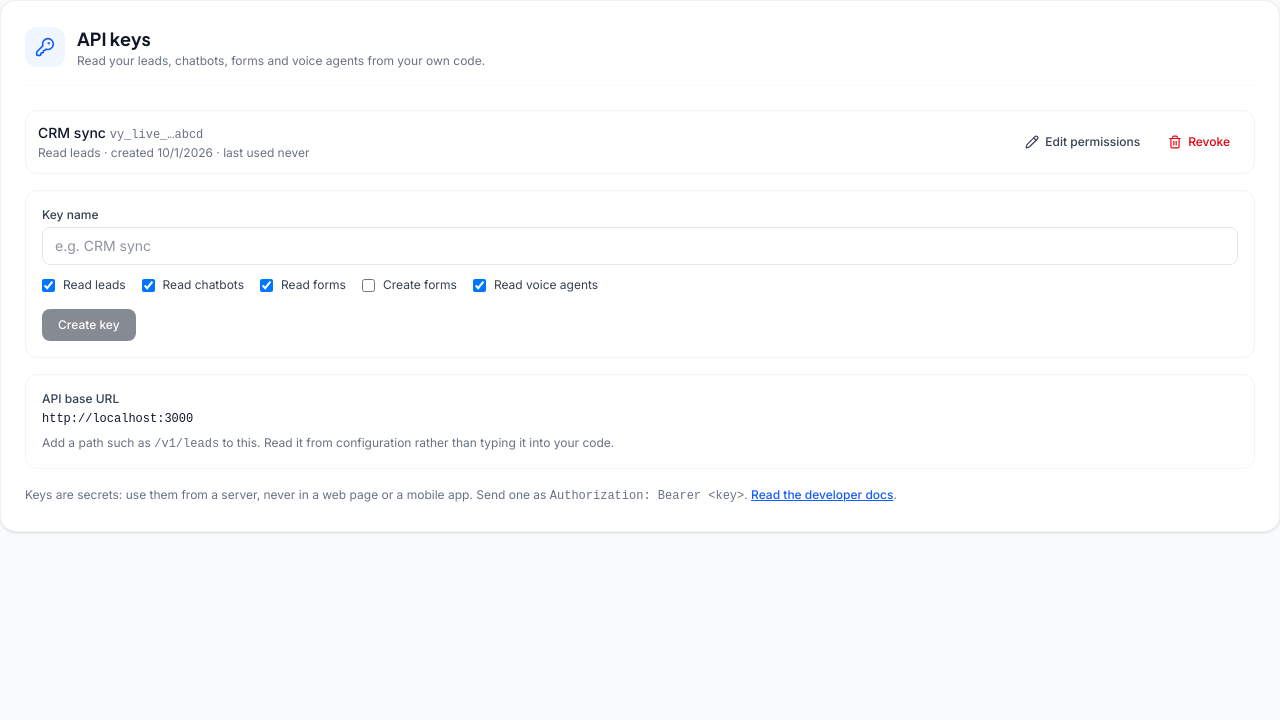
Test: ApiKeysSection › keeps the editor open and says why when the change is refused
This screenshot has width=1280, height=720.
Expected: the text "CRM sync" is shown, 38,124 -> 106,141
Click the button "Edit permissions" at (1083, 142), box 1013,128 -> 1152,156
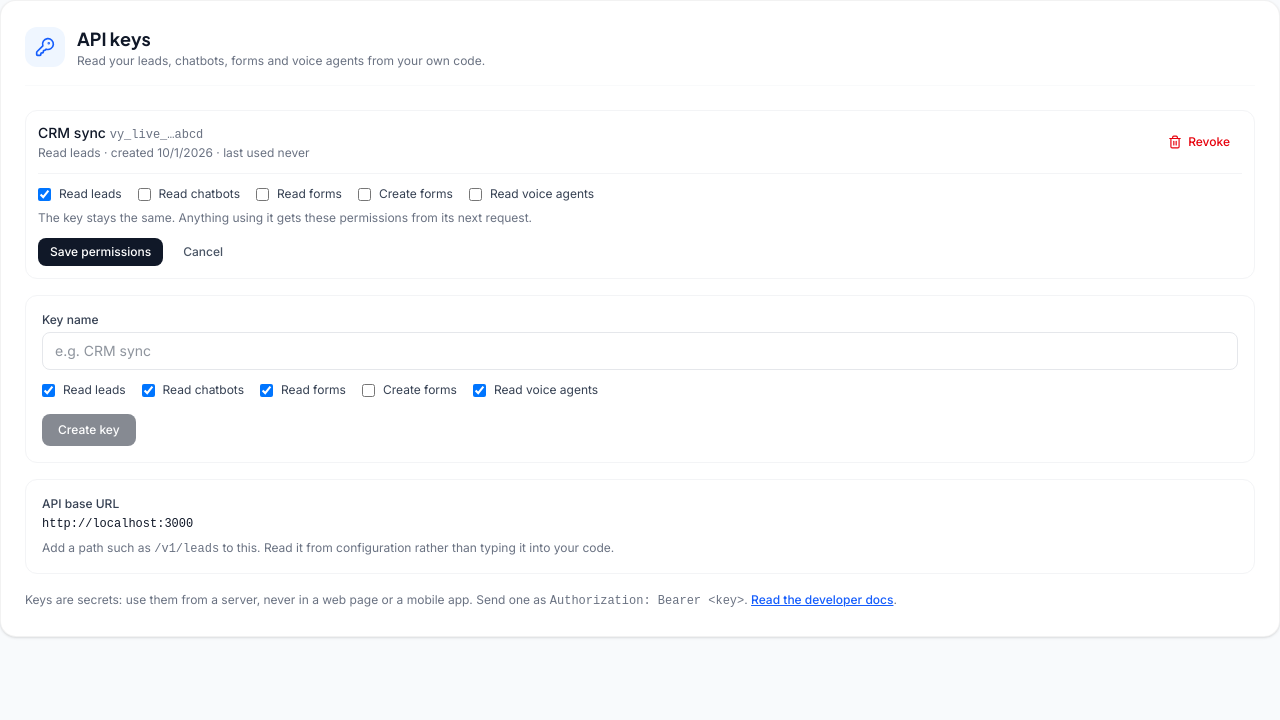
Click the button "Save permissions" at (101, 252), box 38,238 -> 163,266
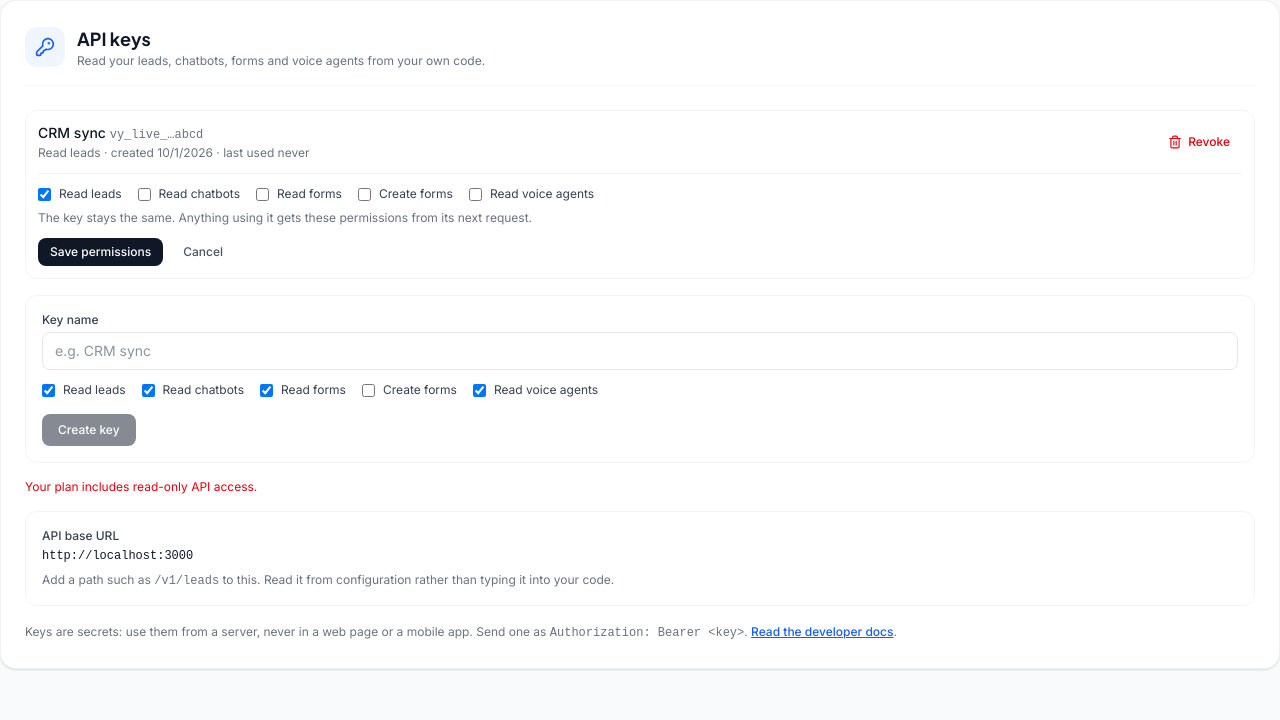
Expected: the element named "Permissions for CRM sync" is shown, 38,173 -> 1242,266
Expected: the text "Your plan includes read-only API access." is shown, 25,479 -> 257,494
